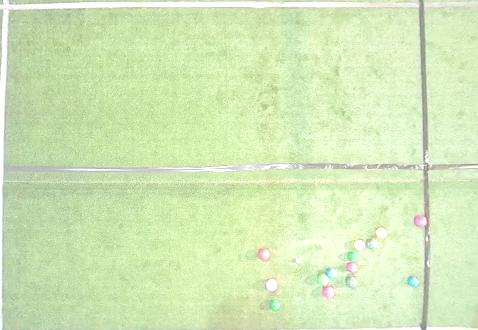blue: (408, 277, 419, 287), (327, 269, 337, 278)
green: (317, 274, 329, 285), (345, 277, 357, 288), (271, 300, 281, 311), (349, 252, 359, 262), (367, 239, 377, 249)
red: (258, 249, 270, 260), (266, 279, 277, 291), (415, 216, 427, 227), (323, 287, 334, 298), (347, 263, 358, 273)
vline: (419, 0, 477, 329), (0, 0, 12, 329)
white: (296, 258, 301, 263)
yellow: (354, 240, 365, 251), (376, 228, 387, 238)
